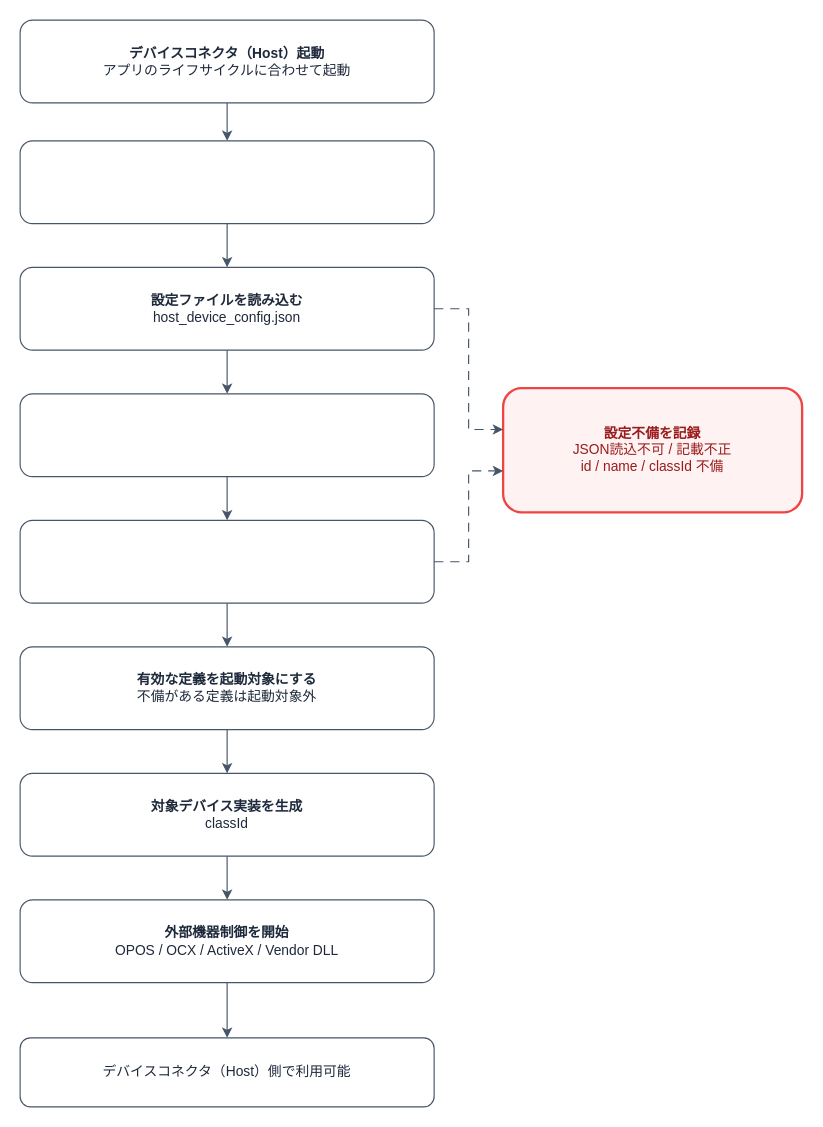
This 823x1127 diagram has some shape labels left out. The shapes that lost their labels are listed below. From the top down, each one's centre as x and y in pixels, then its label:
pixel 226 182: デバイスコネクタ（Host）側設定ファイルを確認 Resources/host_device_config.json
pixel 226 435: devices配列を確認 起動・保持する対象機器の一覧
pixel 226 561: device定義を確認 id / name / classId
